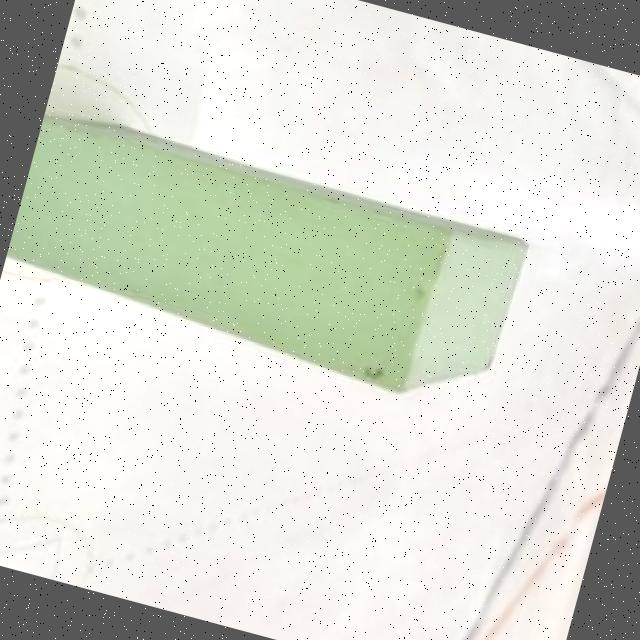greenbox: (0, 106, 535, 419)
